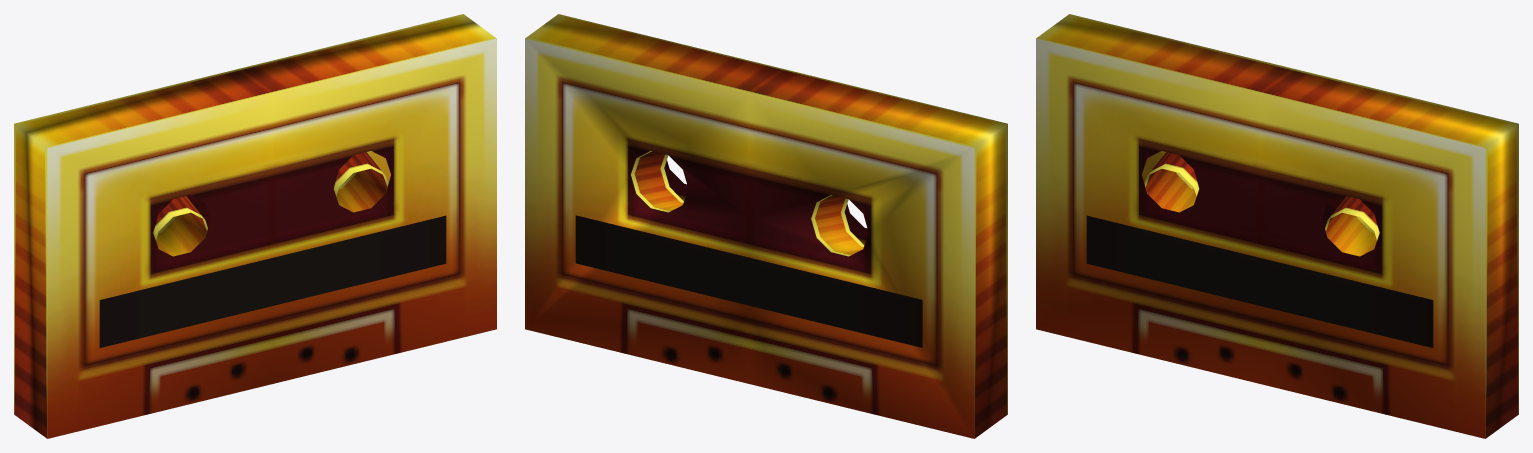
File: tape_black.fbx
3 renders of one model, left to right at view 1: azimuth 30°, elevation 25°; view 2: azimuth 150°, elevation 25°; view 3: azimuth 330°, elevation 25°, orthographic.
Visible parts, largest first — view 1: tape_black; view 2: tape_black; view 3: tape_black.
Part boxes in pixels (x1,y1,x2,y2): tape_black: [14, 14, 496, 438]; tape_black: [525, 14, 1007, 438]; tape_black: [1036, 14, 1518, 438].
Bounding box in the file's own units: 5.52 × 3.41 × 0.7403.
